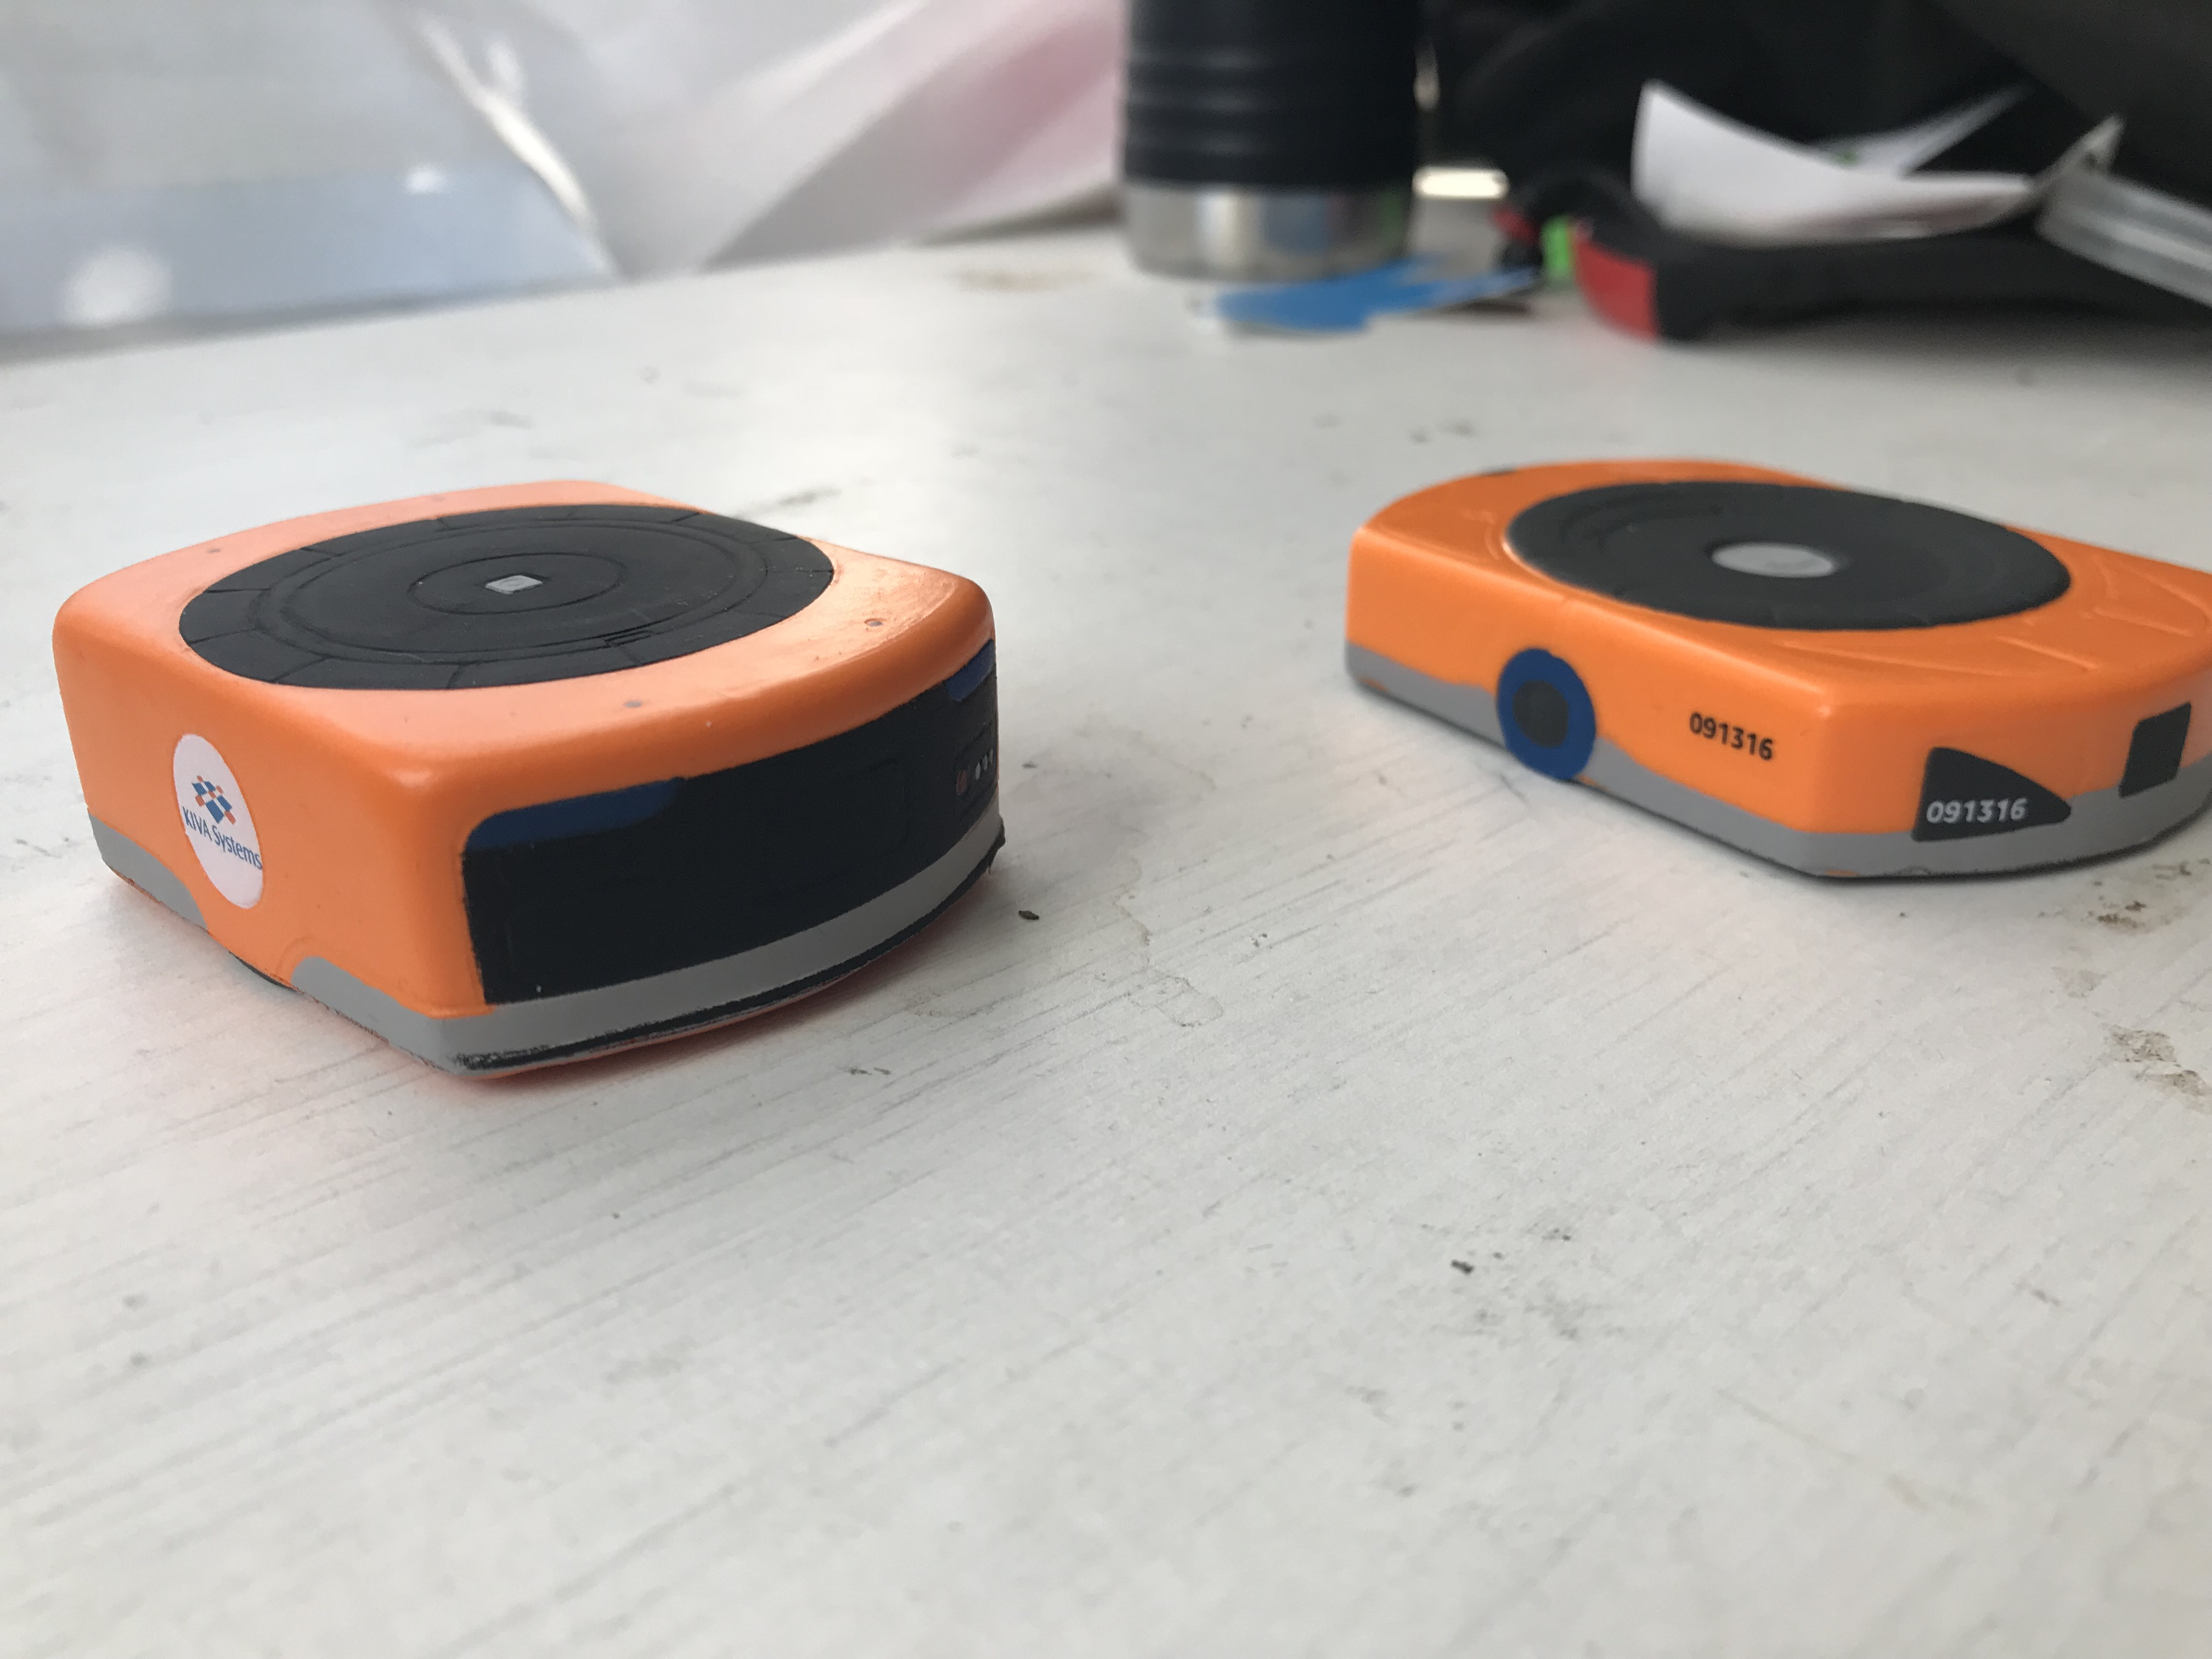amazon_bot: (24, 471, 1073, 1122), (1306, 439, 2212, 931)
